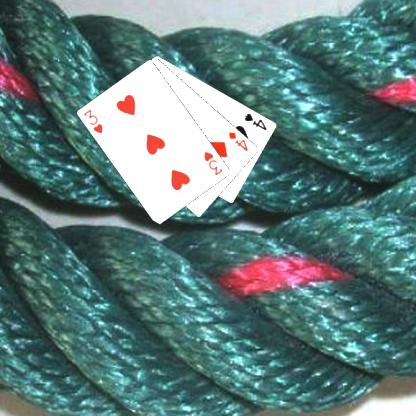3H: (201, 148, 224, 177), (82, 107, 104, 136)
4D: (226, 129, 250, 153)
4S: (242, 110, 268, 132)
